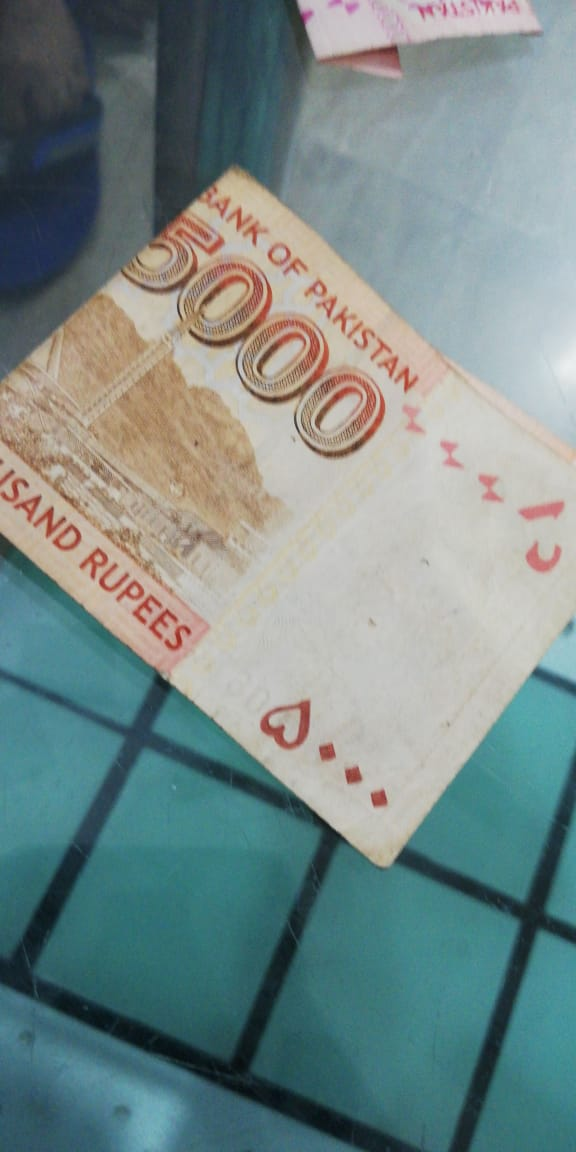5000 rupee: (1, 159, 575, 909)
